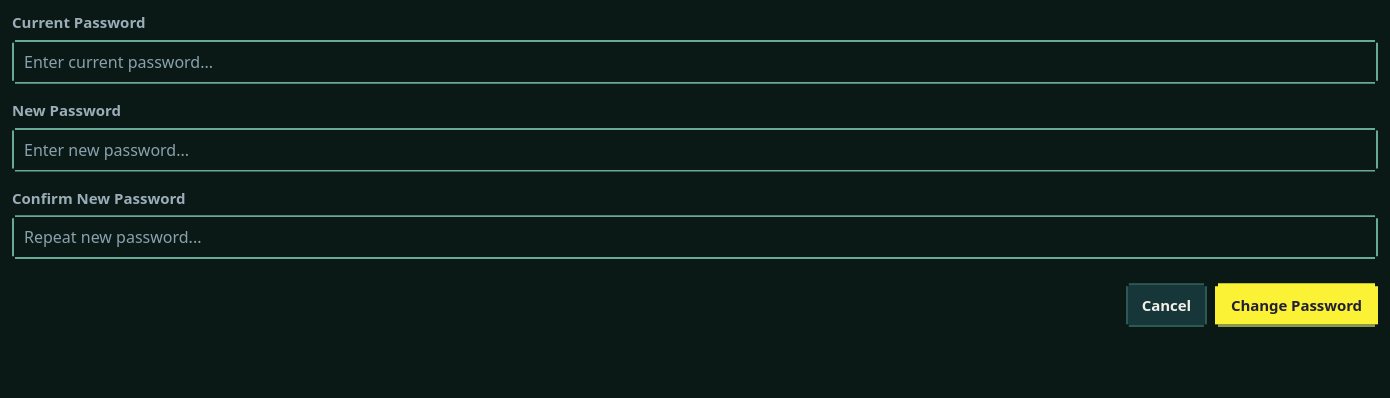
Test: ChangePasswordForm › a 401 for a dead session shows the server message, not "incorrect password"
In the password field labelled "Current Password": (695, 62) [12,40,1378,84], type "whatever-1"
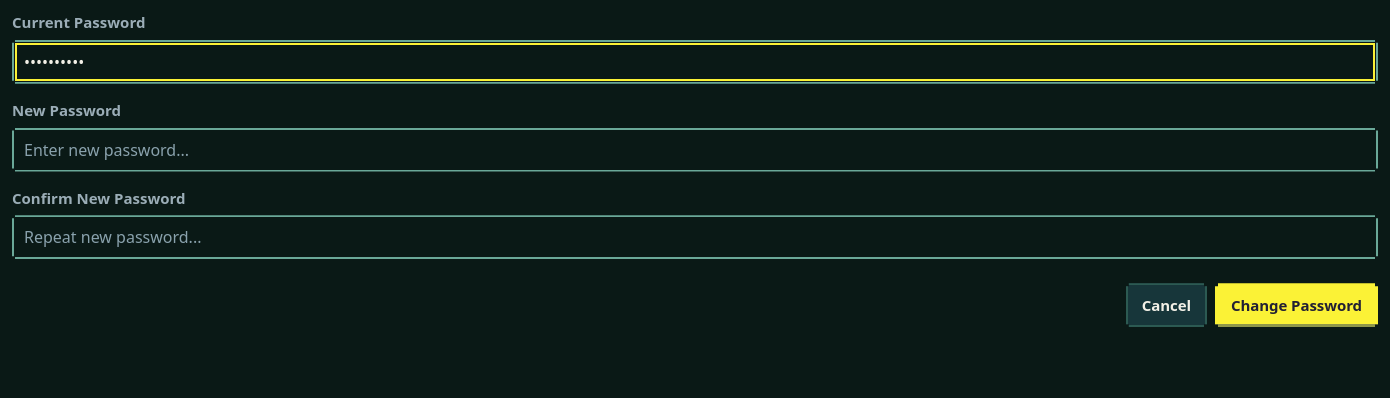
In the password field labelled "New Password": (695, 150) [12,128,1378,172], type "new-secret-1"
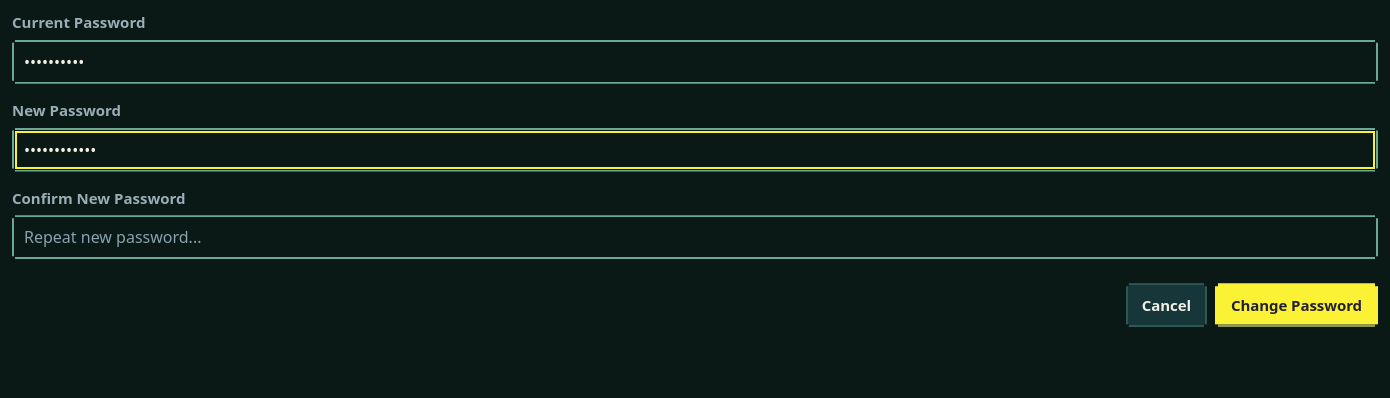
In the password field labelled "Confirm New Password": (695, 237) [12,215,1378,259], type "new-secret-1"
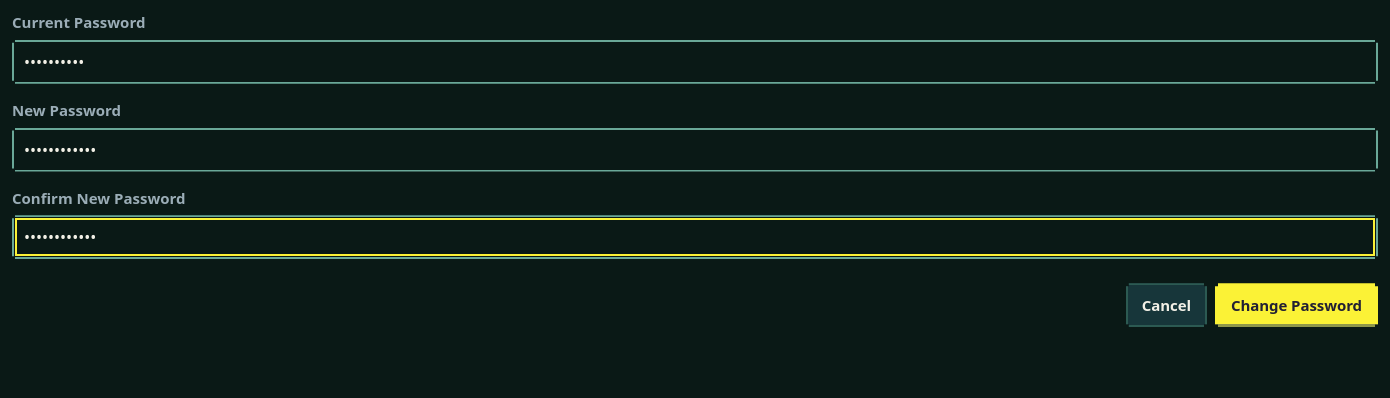
Click the button "Change Password": (1296, 305) [1215,283,1378,327]
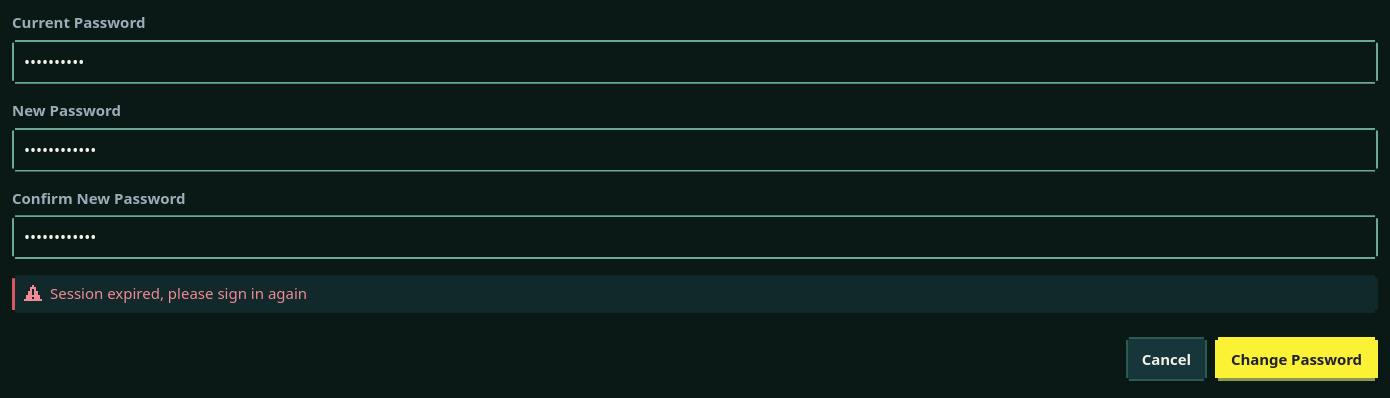
Expected: the text "Session expired, please sign in again" is shown, [50,283,307,305]
